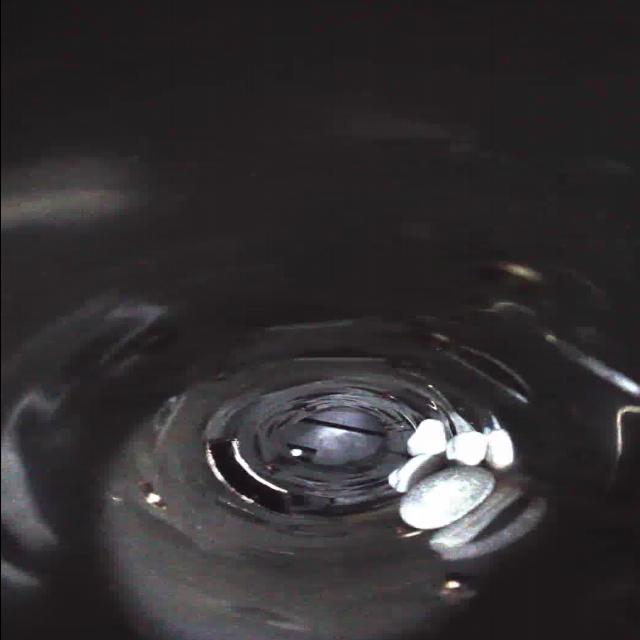hole: (194, 436, 296, 520)
